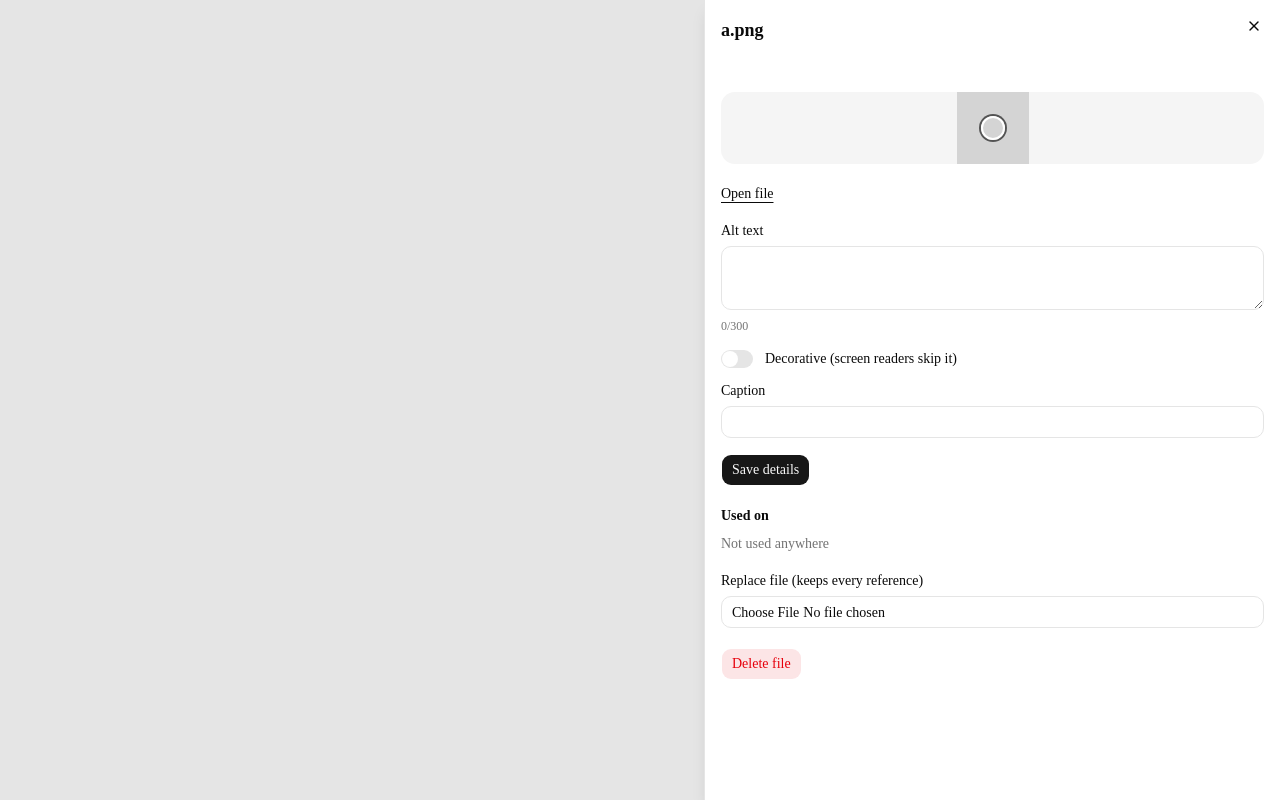
Test: MediaDetailsSheet › shows the usage list with links when delete is refused with 409
Click the button "Delete file".
click(761, 664)  # box left=721, top=648, right=802, bottom=680
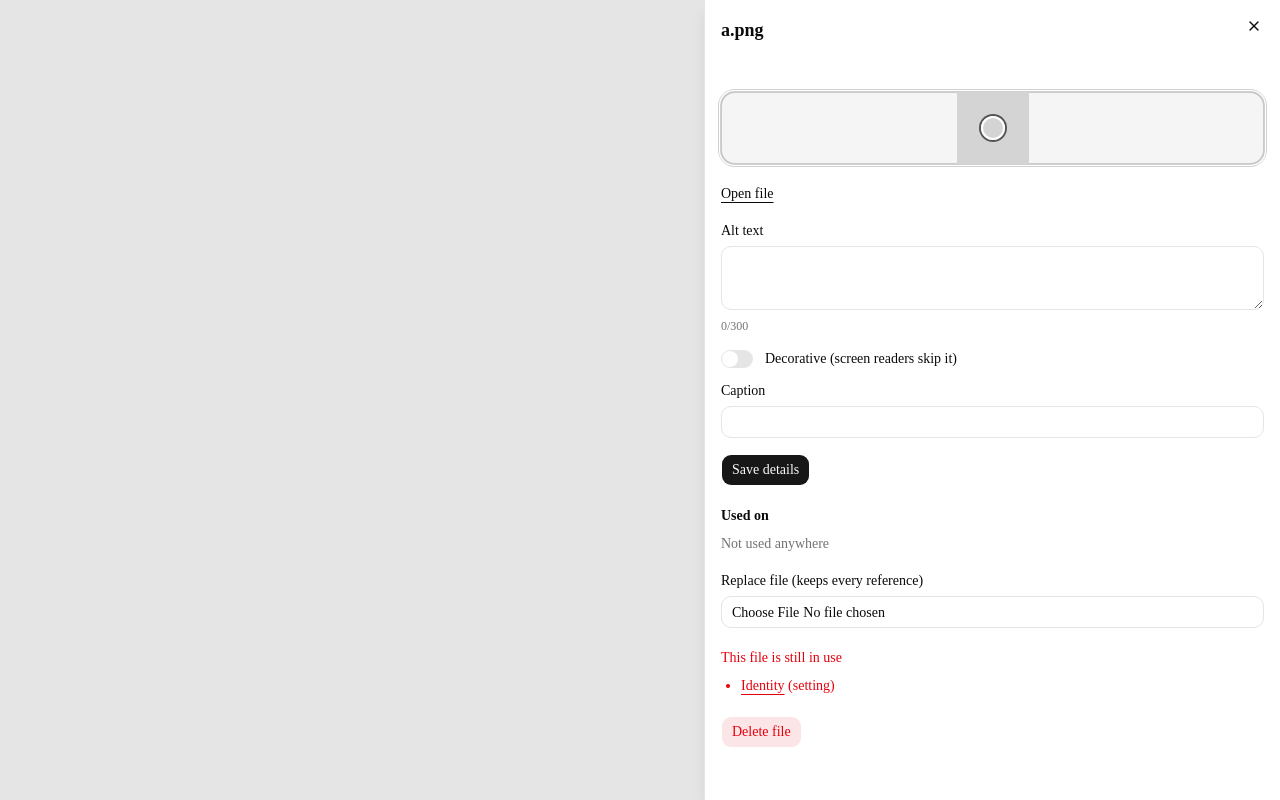
Now the message shows "This file is still in use", box left=721, top=650, right=842, bottom=665
Now the link "Identity" is shown, box left=741, top=678, right=784, bottom=693
